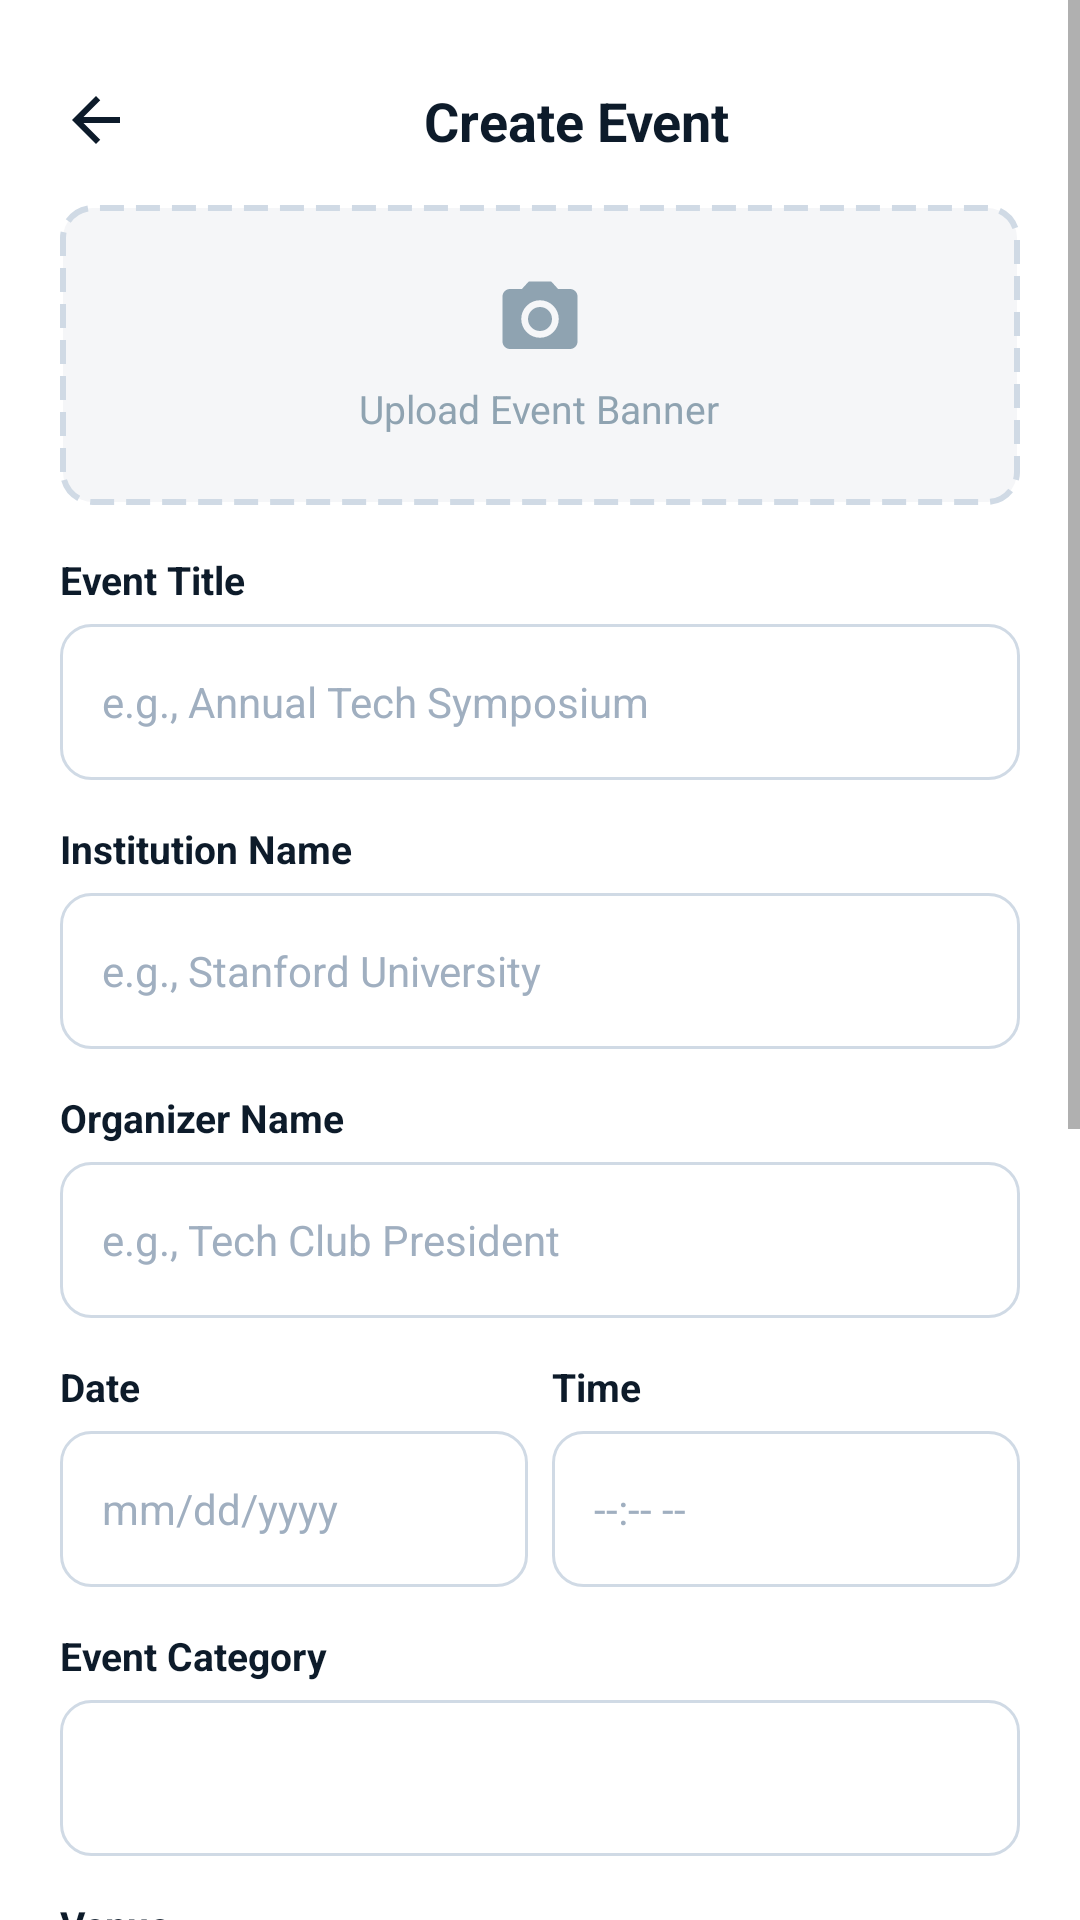

Icon bounding boxes for this 1080 × 1920 phone screenshot, format BBox(x1, y1, x2, y2):
arrow back: BBox(72, 96, 120, 144)
camera: BBox(502, 281, 578, 349)
